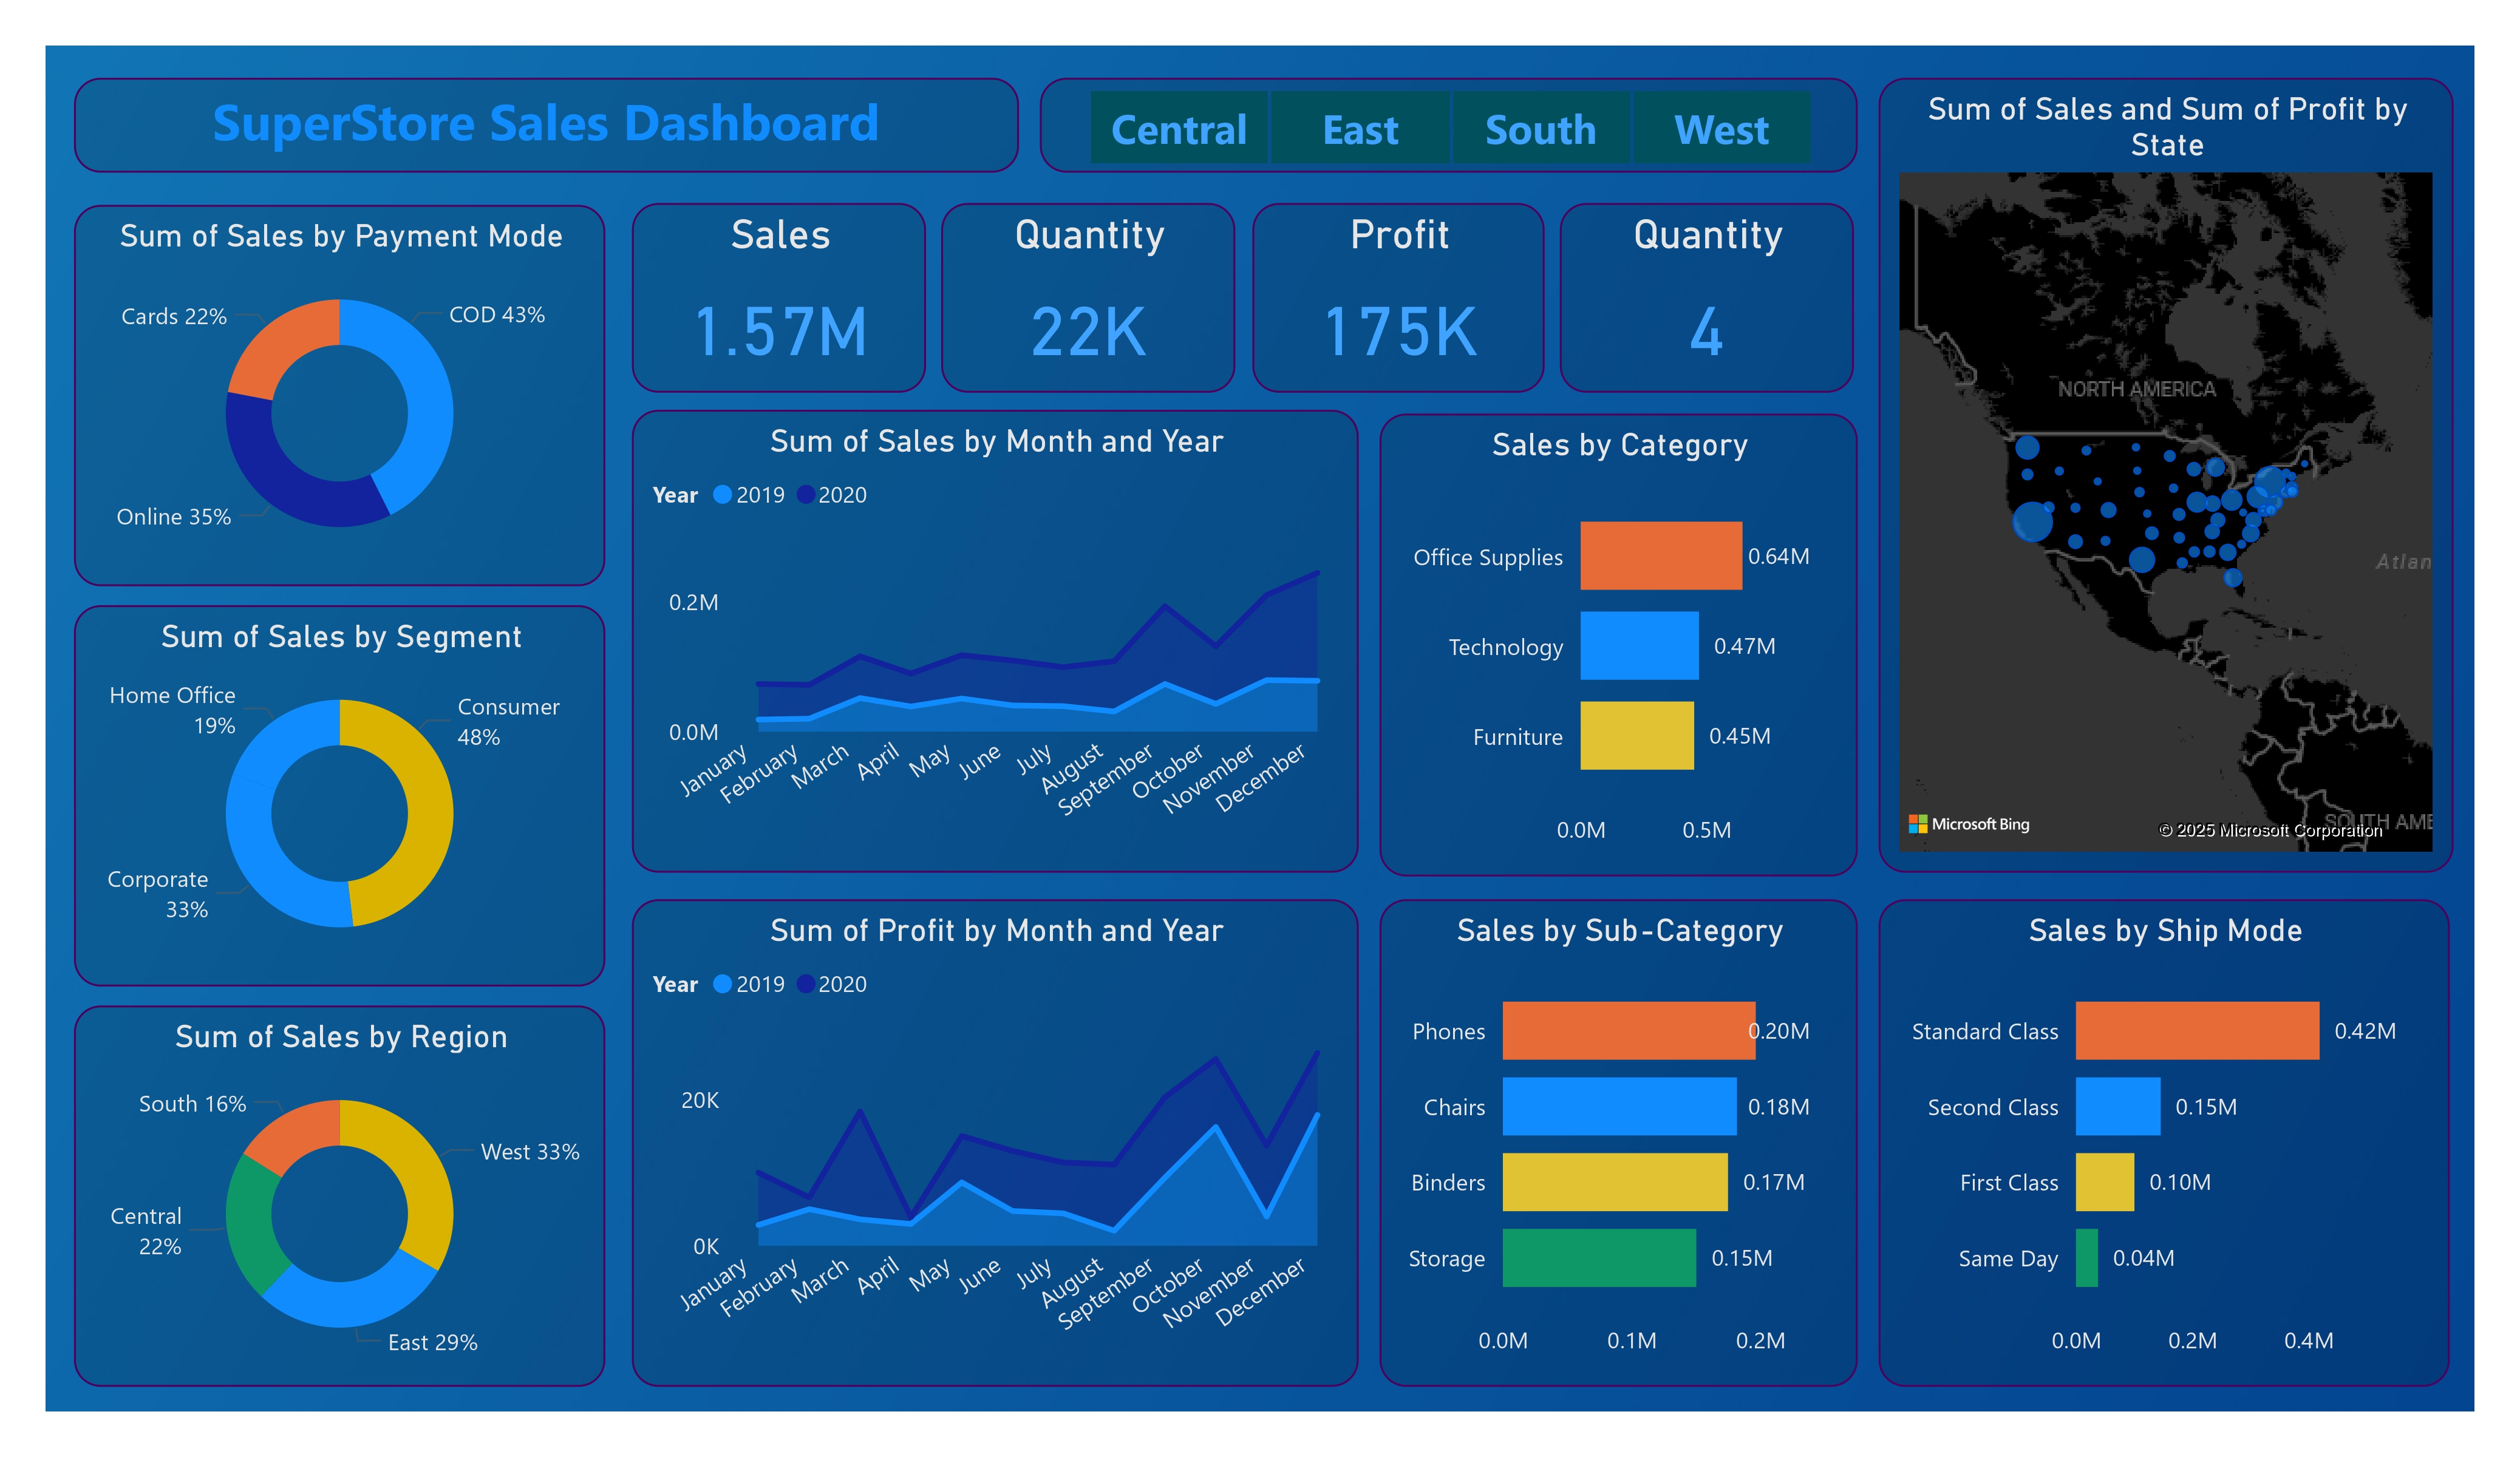

The page's visual inventory and layout, read from the dashboard file:
{"tool":"powerbi","page":{"name":"Page 1","canvas":[1280,720],"ordinal":0},"visuals":[{"type":"clusteredBarChart","title":"Sales by Category","fields":{"Category":["SuperStore_Sales_Dataset.Category"],"Y":["Sum(SuperStore_Sales_Dataset.Sales)"]},"box":[702.6,193.8,252.9,243.8],"z":0},{"type":"clusteredBarChart","title":"Sales by Sub-Category","fields":{"Y":["Sum(SuperStore_Sales_Dataset.Sales)"],"Category":["SuperStore_Sales_Dataset.Sub-Category"]},"box":[702.6,449.7,252.9,257.4],"z":1000},{"type":"clusteredBarChart","title":"Sales by Ship Mode","fields":{"Y":["Sum(SuperStore_Sales_Dataset.Sales)"],"Category":["SuperStore_Sales_Dataset.Ship Mode"]},"box":[966.1,449.7,301.3,257.4],"z":2000},{"type":"stackedAreaChart","fields":{"Category":["SuperStore_Sales_Dataset.Order Date.Variation.Date Hierarchy.Month","SuperStore_Sales_Dataset.Order Date.Variation.Date Hierarchy.Day"],"Y":["Sum(SuperStore_Sales_Dataset.Sales)"],"Series":["SuperStore_Sales_Dataset.Order Date.Variation.Date Hierarchy.Year"]},"box":[308.9,192.3,383.1,243.8],"z":3000},{"type":"stackedAreaChart","fields":{"Category":["SuperStore_Sales_Dataset.Order Date.Variation.Date Hierarchy.Month","SuperStore_Sales_Dataset.Order Date.Variation.Date Hierarchy.Day"],"Series":["SuperStore_Sales_Dataset.Order Date.Variation.Date Hierarchy.Year"],"Y":["Sum(SuperStore_Sales_Dataset.Profit)"]},"box":[308.9,449.7,383.1,257.4],"z":4000},{"type":"map","fields":{"Category":["SuperStore_Sales_Dataset.State"],"Size":["Sum(SuperStore_Sales_Dataset.Sales)"]},"box":[966.1,16.7,302.8,419.4],"z":5000},{"type":"slicer","fields":{"Values":["SuperStore_Sales_Dataset.Region"]},"box":[523.9,16.7,431.5,50],"z":6000},{"type":"donutChart","fields":{"Category":["SuperStore_Sales_Dataset.Segment"],"Y":["Sum(SuperStore_Sales_Dataset.Sales)"]},"box":[14.7,295,280.3,201],"z":7000},{"type":"donutChart","fields":{"Y":["Sum(SuperStore_Sales_Dataset.Sales)"],"Category":["SuperStore_Sales_Dataset.Region"]},"box":[14.7,506.3,280.3,201],"z":8000},{"type":"donutChart","fields":{"Y":["Sum(SuperStore_Sales_Dataset.Sales)"],"Category":["SuperStore_Sales_Dataset.Payment Mode"]},"box":[14.7,83.6,280.3,201],"z":9000},{"type":"textbox","box":[15.1,16.7,498.2,50],"z":10000},{"type":"card","title":"Sales","fields":{"Values":["Sum(SuperStore_Sales_Dataset.Sales)"]},"box":[308.9,83.3,155,100],"z":11000},{"type":"card","title":"Quantity","fields":{"Values":["Sum(SuperStore_Sales_Dataset.Quantity)"]},"box":[472.4,83.3,154.4,99.9],"z":12000},{"type":"card","title":"Profit","fields":{"Values":["Sum(SuperStore_Sales_Dataset.Profit)"]},"box":[636,83.3,154.4,99.9],"z":13000},{"type":"card","title":"Quantity","fields":{"Values":["Avg(SuperStore_Sales_Dataset.AvgDelivery)"]},"box":[798,83.3,155,100],"z":14000}]}

Visuals, with their boxes in screenshot pixels (x1, y1, x2, y2):
"Sales by Category" clusteredBarChart: <box>1379,413,1859,875</box>
"Sales by Sub-Category" clusteredBarChart: <box>1379,898,1859,1387</box>
"Sales by Ship Mode" clusteredBarChart: <box>1879,898,2451,1387</box>
stackedAreaChart - SuperStore_Sales_Dataset.Order Date.Variation.Date Hierarchy.Month x SuperStore_Sales_Dataset.Order Date.Variation.Date Hierarchy.Day: <box>632,410,1359,873</box>
stackedAreaChart - SuperStore_Sales_Dataset.Order Date.Variation.Date Hierarchy.Month x SuperStore_Sales_Dataset.Order Date.Variation.Date Hierarchy.Day: <box>632,898,1359,1387</box>
map - SuperStore_Sales_Dataset.State x Sum(SuperStore_Sales_Dataset.Sales): <box>1879,77,2453,873</box>
slicer - SuperStore_Sales_Dataset.Region: <box>1040,77,1859,172</box>
donutChart - SuperStore_Sales_Dataset.Segment x Sum(SuperStore_Sales_Dataset.Sales): <box>73,605,605,987</box>
donutChart - Sum(SuperStore_Sales_Dataset.Sales) x SuperStore_Sales_Dataset.Region: <box>73,1006,605,1387</box>
donutChart - Sum(SuperStore_Sales_Dataset.Sales) x SuperStore_Sales_Dataset.Payment Mode: <box>73,204,605,585</box>
textbox: <box>74,77,1020,172</box>
"Sales" card: <box>632,203,926,393</box>
"Quantity" card: <box>942,203,1235,393</box>
"Profit" card: <box>1252,203,1545,393</box>
"Quantity" card: <box>1560,203,1854,393</box>
